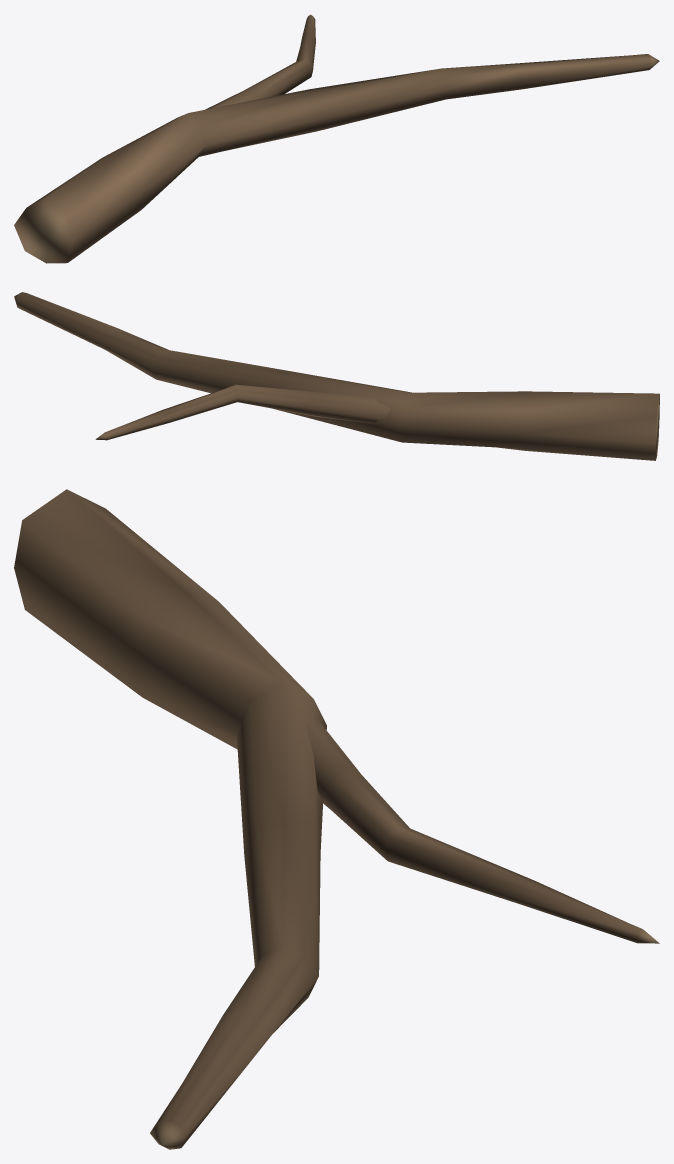
The model's file is ForestBranch_3.glb.
3 views of the same model, one above another, from view 1: azimuth 30°, elevation 25°; view 2: azimuth 150°, elevation 25°; view 3: azimuth 270°, elevation 25° (orthographic). The views are drawn at different scales.
Parts seen in each view (by area): view 1: ForestBranch_3; view 2: ForestBranch_3; view 3: ForestBranch_3.
Boxes of the visible parts, left/top/right/bottom form: ForestBranch_3: left=14, top=14, right=659, bottom=263; ForestBranch_3: left=14, top=292, right=659, bottom=460; ForestBranch_3: left=14, top=489, right=659, bottom=1149.
Bounding box in the file's own units: 1.11 × 0.1061 × 0.5072.
